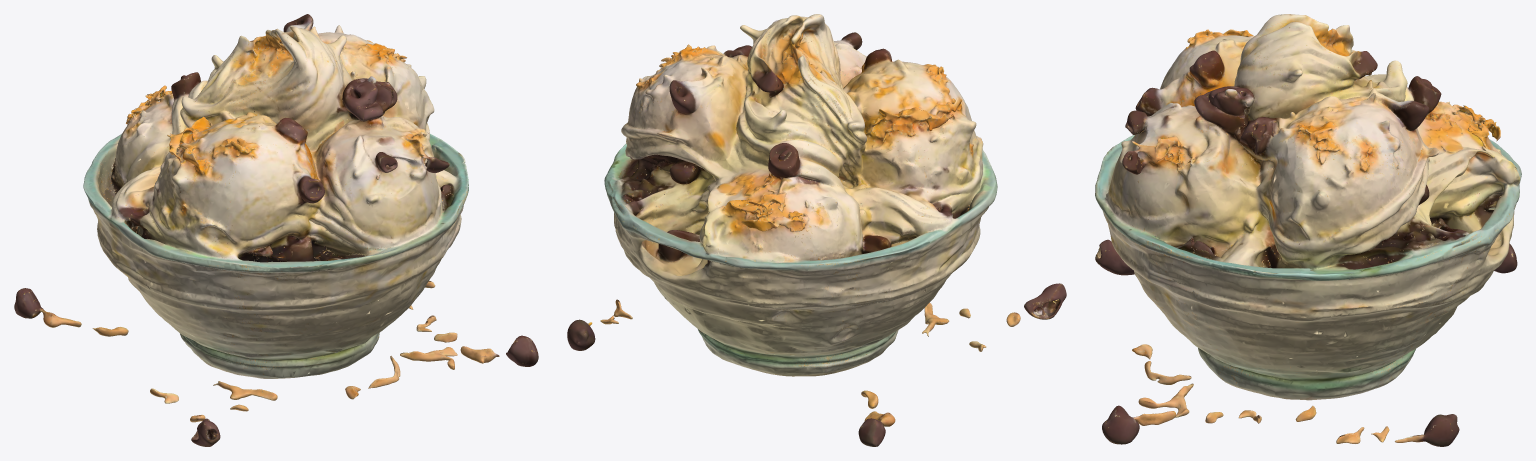
File: Coconut_Crush.glb
3 renders of one model, left to right at view 1: azimuth 30°, elevation 25°; view 2: azimuth 150°, elevation 25°; view 3: azimuth 270°, elevation 25°, orthographic. The views are drawn at different scales.
Bounding box in the file's own units: 2 × 1.78 × 1.99.
1 material, 1 textured.
